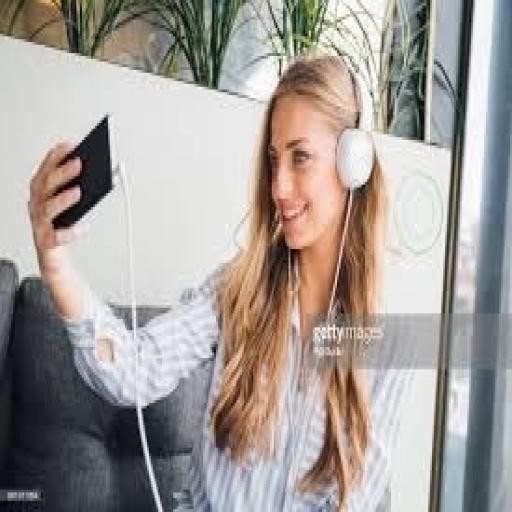listening_to_music: (24, 50, 417, 510)
